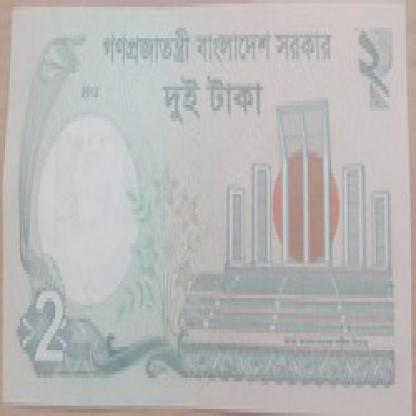two taka: (25, 267, 88, 402), (351, 21, 394, 111)
